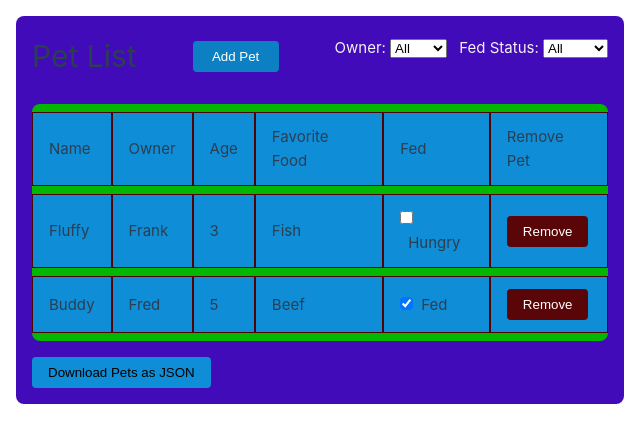
Test: PetList.vue › can remove a pet
The image size is (641, 421).
Click the button "Remove" in the row of "Fluffy" at (548, 231), box [507,216,588,246]
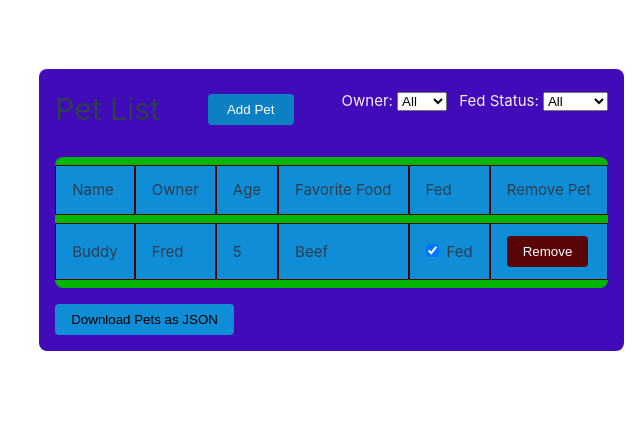
Expected: the text "Fluffy" is gone
